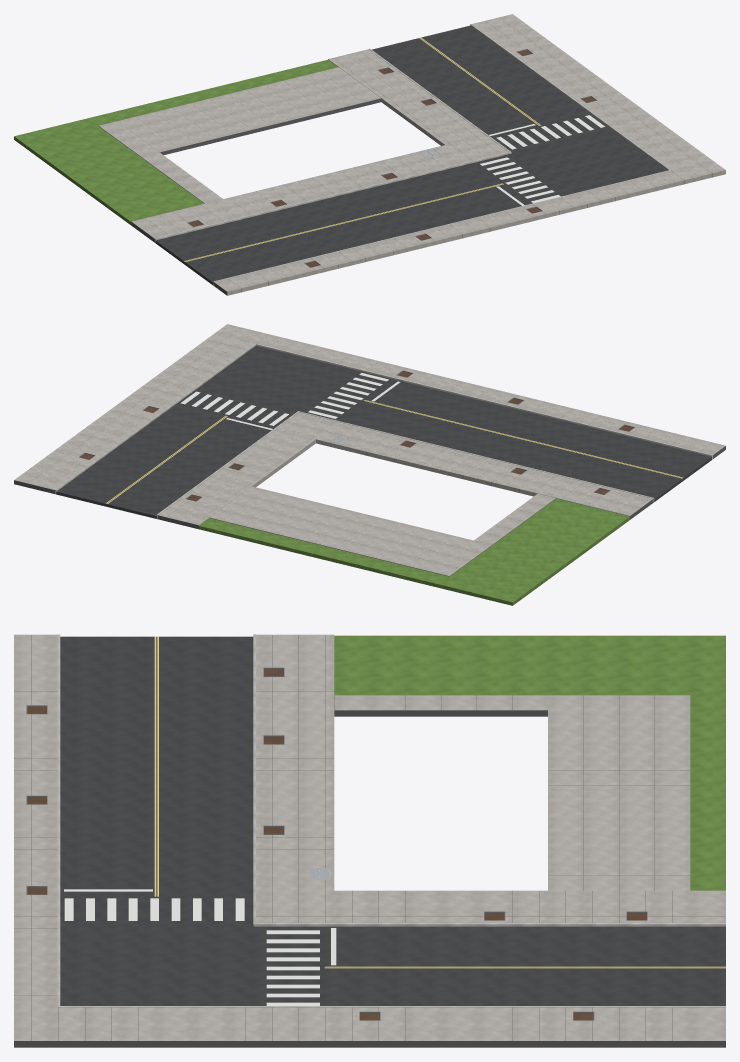
Rendered from site.glb.
3 renders of one model, top to bottom at view 1: azimuth 30°, elevation 25°; view 2: azimuth 150°, elevation 25°; view 3: azimuth 270°, elevation 25°, orthographic. The views are drawn at different scales.
Visible parts, largest first — view 1: site_concrete, site_asphalt, site_grass, site_curb, site_line_w, site_dark, site_line_y, site_mulch; view 2: site_concrete, site_asphalt, site_grass, site_curb, site_line_w, site_line_y, site_dark, site_mulch; view 3: site_concrete, site_asphalt, site_grass, site_dark, site_curb, site_line_w, site_line_y, site_mulch, site_steel_d.
Part boxes in pixels (left/top/right/bottom): site_concrete: left=99, top=14, right=725, bottom=295; site_asphalt: left=155, top=25, right=667, bottom=285; site_grass: left=14, top=59, right=337, bottom=225; site_curb: left=154, top=24, right=671, bottom=285; site_line_w: left=480, top=115, right=605, bottom=205; site_dark: left=99, top=98, right=712, bottom=295; site_line_y: left=184, top=37, right=541, bottom=261; site_mulch: left=188, top=50, right=595, bottom=267; site_concrete: left=14, top=324, right=725, bottom=576; site_asphalt: left=56, top=346, right=711, bottom=518; site_grass: left=198, top=498, right=629, bottom=605; site_curb: left=55, top=343, right=712, bottom=519; site_line_w: left=180, top=373, right=400, bottom=429; site_line_y: left=106, top=400, right=683, bottom=503; site_dark: left=14, top=446, right=725, bottom=576; site_mulch: left=80, top=371, right=633, bottom=501; site_concrete: left=14, top=634, right=725, bottom=1040; site_asphalt: left=60, top=636, right=725, bottom=1005; site_grass: left=334, top=635, right=725, bottom=890; site_dark: left=14, top=635, right=725, bottom=1047; site_curb: left=57, top=634, right=725, bottom=1007; site_line_w: left=64, top=889, right=336, bottom=1005; site_line_y: left=154, top=636, right=725, bottom=968; site_mulch: left=27, top=669, right=646, bottom=1020; site_steel_d: left=26, top=667, right=647, bottom=1020.
Size of the model in its own units: 54 by 0.45 by 40.
12 materials, 6 textured.
